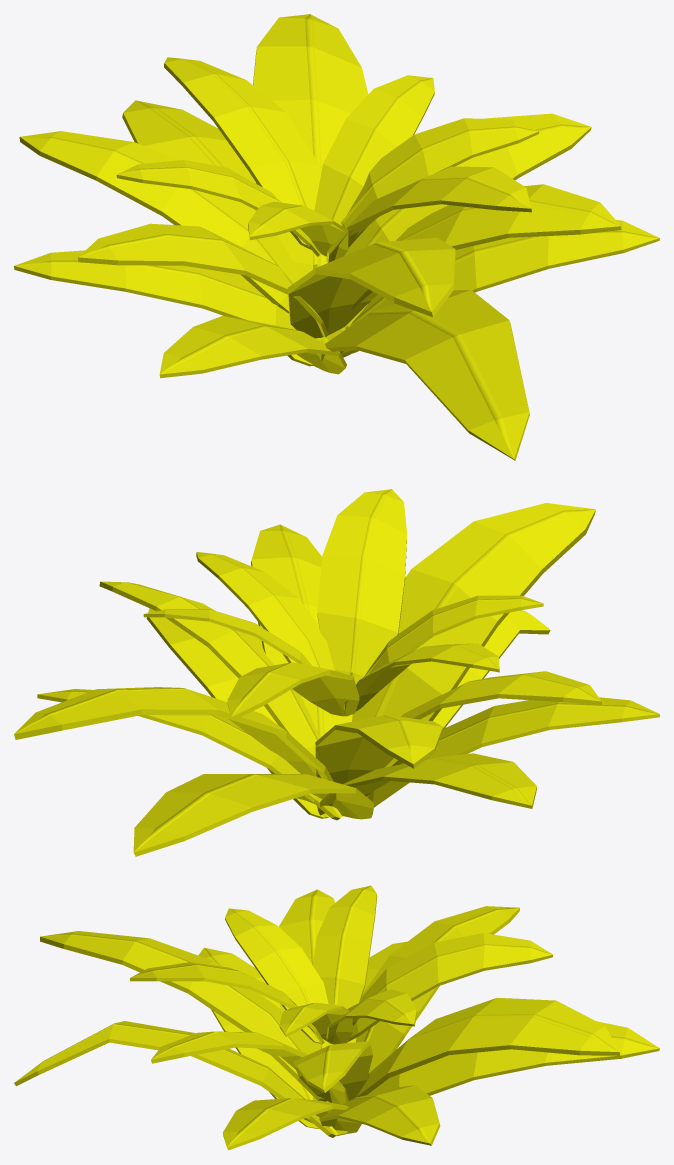
3 renders of one model, top to bottom at view 1: azimuth 30°, elevation 25°; view 2: azimuth 150°, elevation 25°; view 3: azimuth 270°, elevation 25°, orthographic. The views are drawn at different scales.
Visible parts, largest first — view 1: grass; view 2: grass; view 3: grass.
Boxes of the visible parts, x1,y1,x2,y2 form: grass: [14, 14, 659, 460]; grass: [14, 489, 659, 856]; grass: [14, 885, 659, 1150].
Size of the model in its own units: 2.26 by 0.9714 by 3.01.
1 material, 1 textured.
